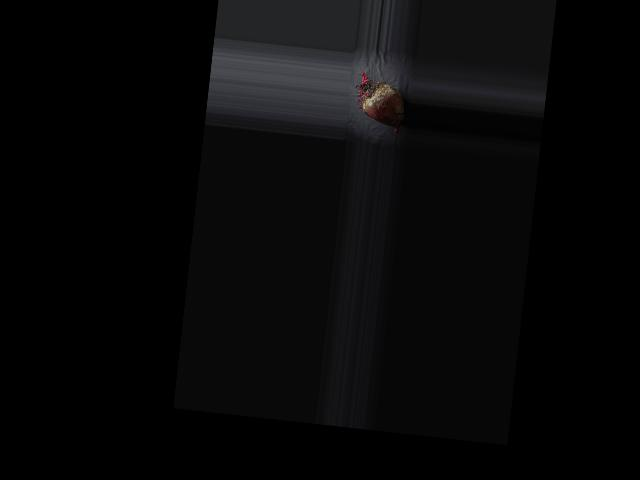beet: (351, 70, 408, 135)
